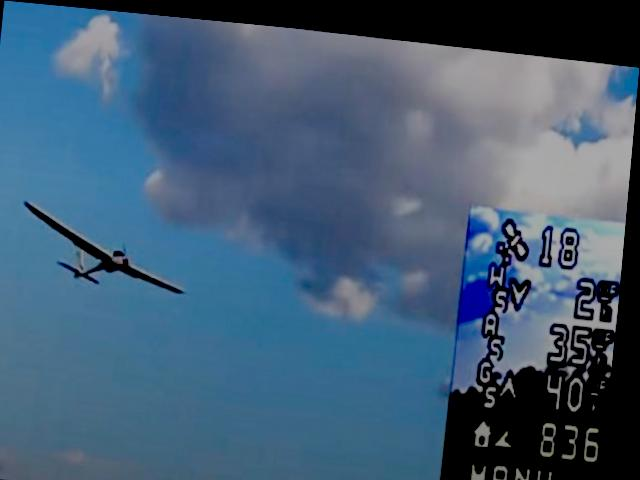iha: (21, 197, 196, 297)
